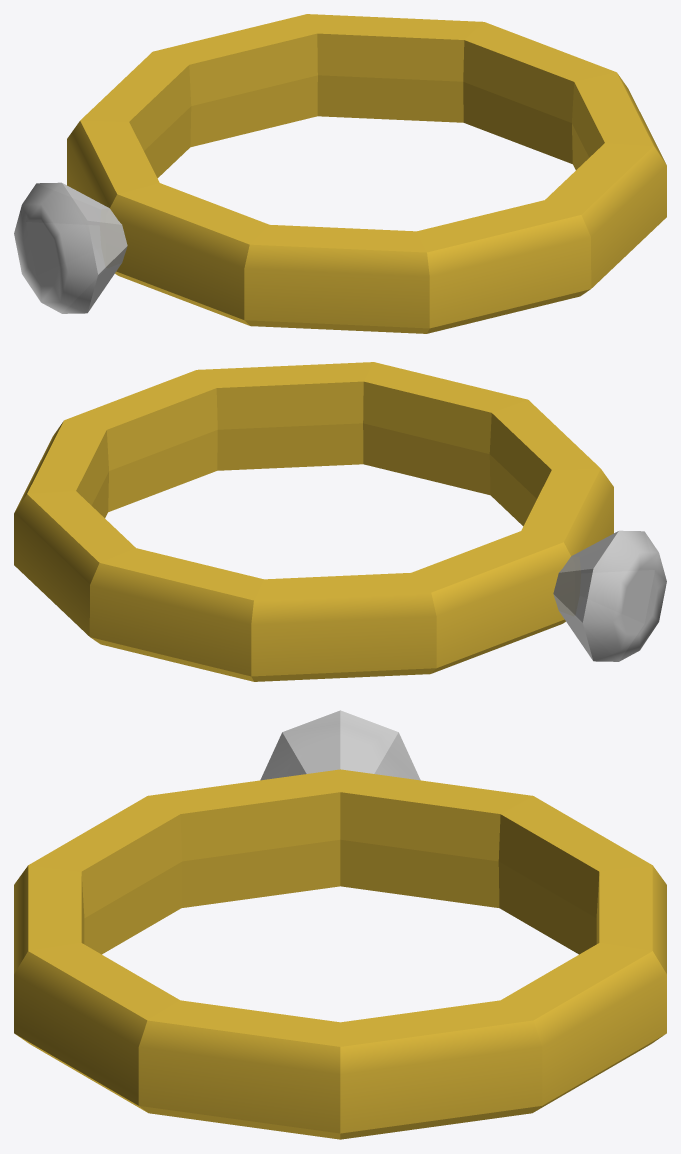
The model's file is Ring.fbx.
The picture shows the model from 3 angles, top to bottom: view 1: azimuth 30°, elevation 25°; view 2: azimuth 150°, elevation 25°; view 3: azimuth 270°, elevation 25°; orthographic projection. The views are drawn at different scales.
Parts seen in each view (by area): view 1: pTorus1, pCone2; view 2: pTorus1, pCone2; view 3: pTorus1, pCone2.
Boxes of the visible parts, x1,y1,x2,y2 form: pTorus1: (67, 14, 666, 333); pCone2: (14, 182, 127, 313); pTorus1: (14, 362, 613, 681); pCone2: (553, 530, 666, 661); pTorus1: (14, 769, 666, 1139); pCone2: (260, 710, 420, 780).
Bounding box in the file's own units: 2.28 × 0.4878 × 1.93.
